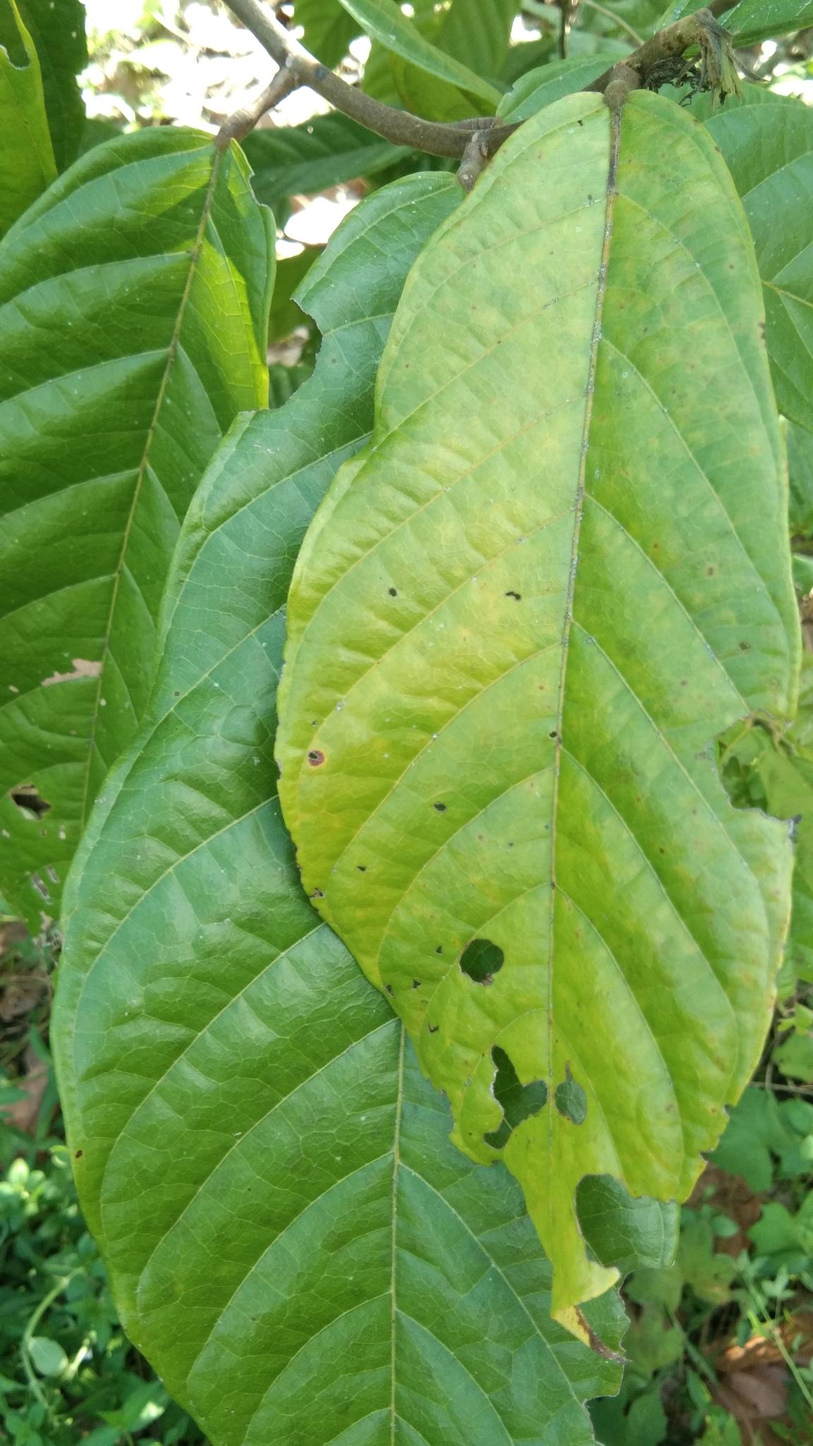Fosforo: (268, 78, 813, 1365)
